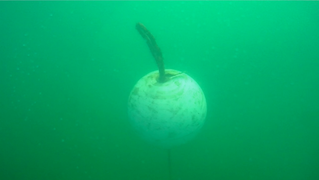buoy: (126, 68, 207, 149)
